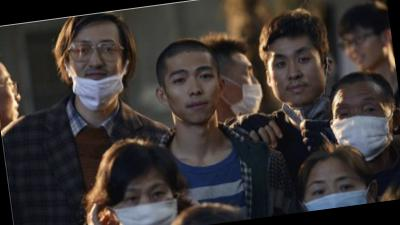mask_weared_incorrect: (66, 34, 133, 114)
with_mask: (328, 92, 395, 163), (108, 178, 183, 225), (300, 168, 369, 211), (218, 61, 268, 118)
without_mask: (267, 44, 330, 112), (164, 61, 225, 129), (342, 28, 385, 72)
